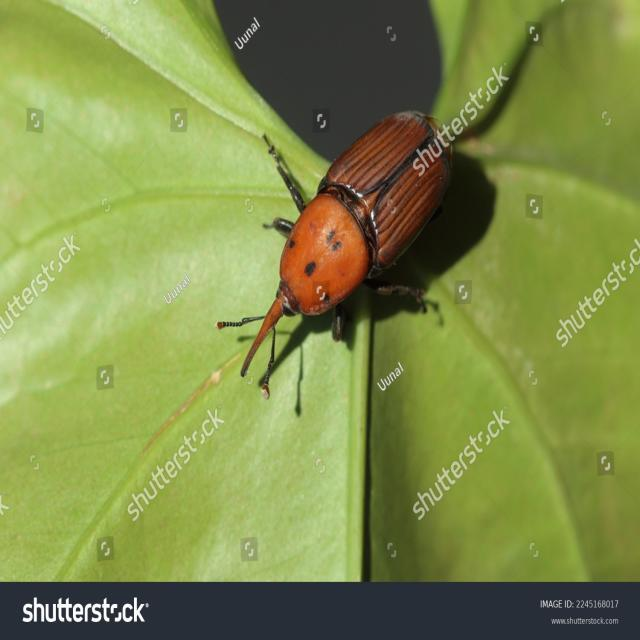Red-palm-weevil: (242, 74, 502, 425)
